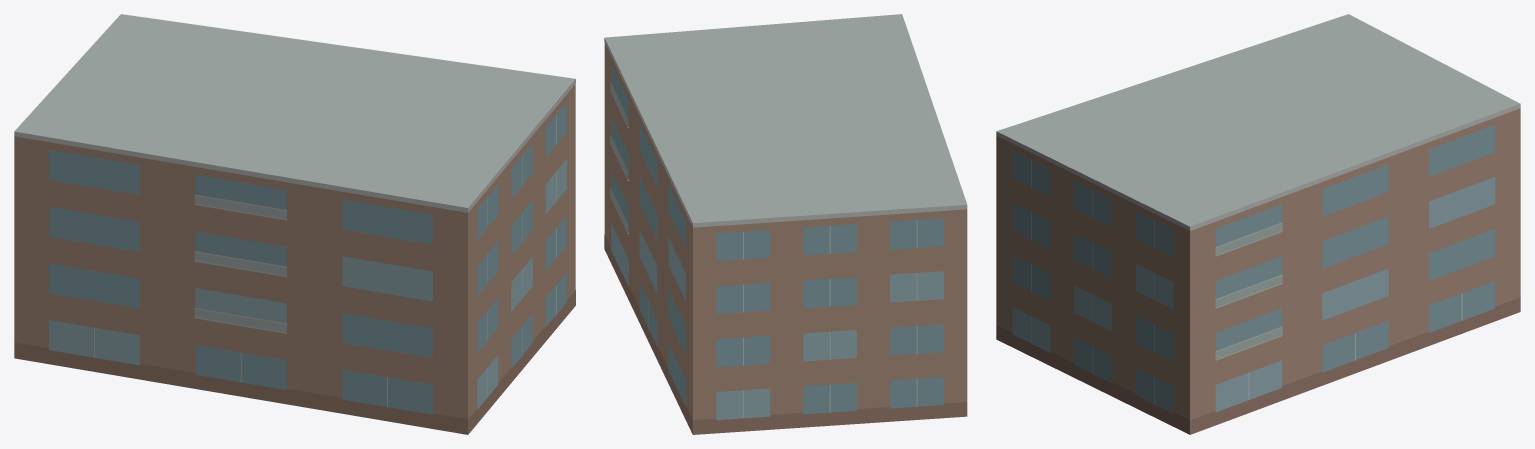
The model's file is survey-upis-32924242.glb.
The picture shows the model from 3 angles, left to right: view 1: azimuth 30°, elevation 25°; view 2: azimuth 150°, elevation 25°; view 3: azimuth 270°, elevation 25°; orthographic projection. The views are drawn at different scales.
Parts seen in each view (by area): view 1: survey-upis-32924242.tmp; view 2: survey-upis-32924242.tmp; view 3: survey-upis-32924242.tmp.
Boxes of the visible parts, left/top/right/bottom form: survey-upis-32924242.tmp: left=14, top=14, right=575, bottom=434; survey-upis-32924242.tmp: left=604, top=14, right=967, bottom=434; survey-upis-32924242.tmp: left=996, top=14, right=1520, bottom=434.
Size of the model in its own units: 25.22 by 11.5 by 26.26.
